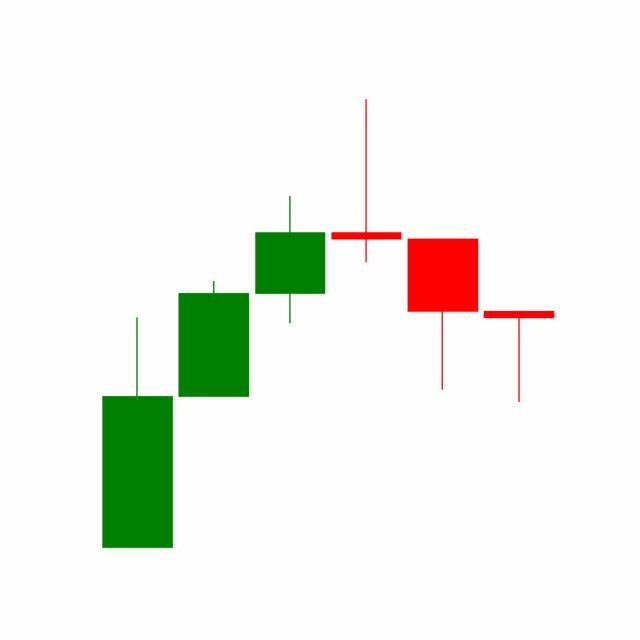Hammer: (404, 237, 482, 392)
